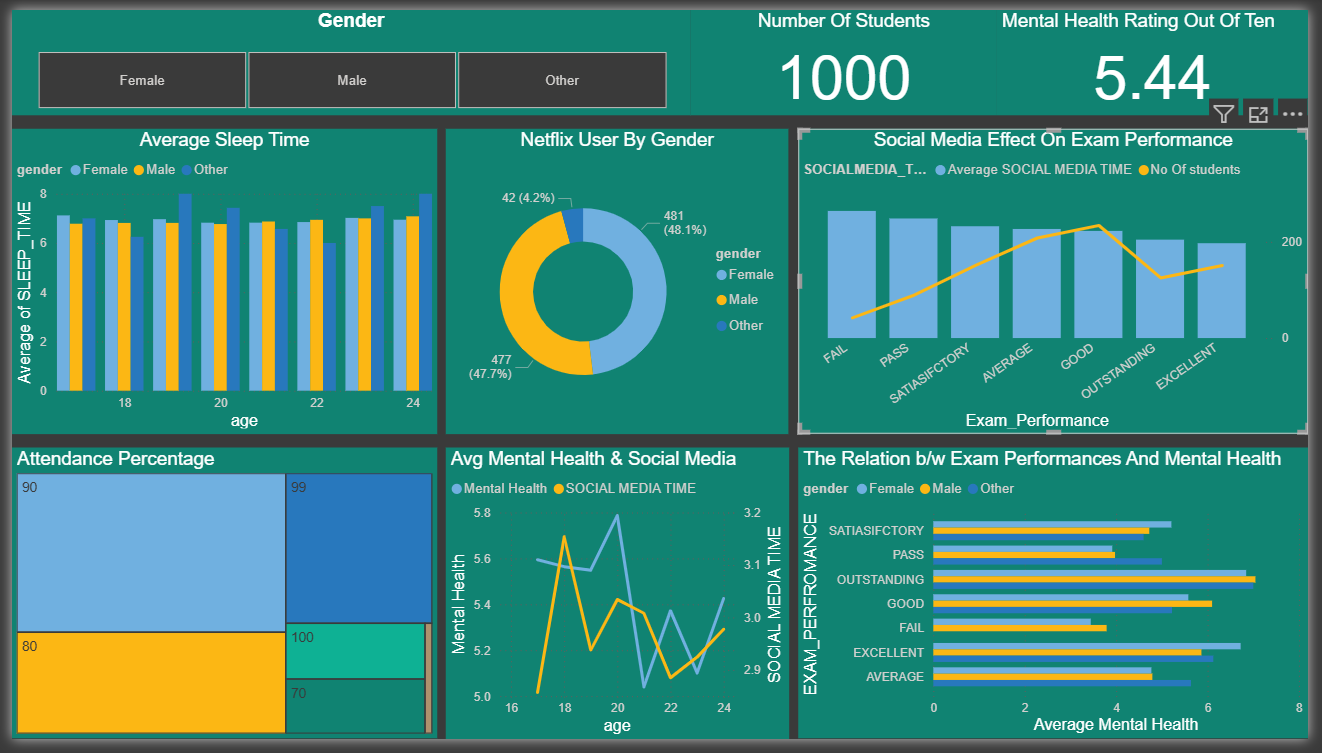

What the dashboard file says about the page in this screenshot:
{"tool":"powerbi","page":{"name":"Page 1","canvas":[1280,720],"ordinal":0},"visuals":[{"type":"card","title":"Number Of Students","fields":{"Values":["CountNonNull(student_habits_performance.student_id)"]},"box":[670,0,302.5,103.8],"z":0},{"type":"slicer","title":"Gender","fields":{"Values":["student_habits_performance.gender"]},"box":[0,0,670,103.8],"z":1000},{"type":"card","title":"Mental Health Rating Out Of Ten","fields":{"Values":["Avg(student_habits_performance.mental_health_rating)"]},"box":[972.5,0,307.5,103.8],"z":2000},{"type":"clusteredColumnChart","title":"Average Sleep Time ","fields":{"Category":["student_habits_performance.age"],"Y":["Avg(student_habits_performance.SLEEP_TIME)"],"Series":["student_habits_performance.gender"]},"box":[0,117.5,420,301.2],"z":3000},{"type":"donutChart","title":"Netflix User By Gender ","fields":{"Y":["CountNonNull(student_habits_performance.NETFLIX_TIME)"],"Category":["student_habits_performance.gender"]},"box":[428.8,117.5,338.8,301.2],"z":4000},{"type":"lineClusteredColumnComboChart","title":"Social Media Effect On Exam Performance","fields":{"Category":["student_habits_performance.EXAM_PERFROMANCE"],"Y2":["Count(student_habits_performance.student_id)"],"Y":["student_habits_performance.Average SOCIAL MEDIA TIME"]},"box":[776.2,117.5,503.8,301.2],"z":5000},{"type":"treemap","title":"Attendance Percentage","fields":{"Group":["student_habits_performance.ATTENDANCE_PERCENT"],"Values":["CountNonNull(student_habits_performance.student_id)"]},"box":[0,432.5,420,287.5],"z":6000},{"type":"lineChart","title":"Avg Mental Health & Social Media ","fields":{"Y":["student_habits_performance.Average Mental Health"],"Y2":["student_habits_performance.Average SOCIAL MEDIA TIME"],"Category":["student_habits_performance.age"]},"box":[428.6,432.1,339.3,288.1],"z":7000},{"type":"clusteredBarChart","title":"The Relation b/w Exam Performances And Mental Health","fields":{"Category":["student_habits_performance.EXAM_PERFROMANCE"],"Y":["student_habits_performance.Average Mental Health"],"Series":["student_habits_performance.gender"]},"box":[776.2,432.5,503.8,287.5],"z":8000}]}

Visuals, with their boxes in screenshot pixels (x1, y1, x2, y2), scaled from the page's 1280x720 canvas onto the 1322x753 screenshot:
"Number Of Students" card: box(692, 0, 1004, 109)
"Gender" slicer: box(0, 0, 692, 109)
"Mental Health Rating Out Of Ten" card: box(1004, 0, 1321, 109)
"Average Sleep Time " clusteredColumnChart: box(0, 123, 434, 438)
"Netflix User By Gender " donutChart: box(443, 123, 793, 438)
"Social Media Effect On Exam Performance" lineClusteredColumnComboChart: box(802, 123, 1321, 438)
"Attendance Percentage" treemap: box(0, 452, 434, 752)
"Avg Mental Health & Social Media " lineChart: box(443, 452, 793, 752)
"The Relation b/w Exam Performances And Mental Health" clusteredBarChart: box(802, 452, 1321, 752)
